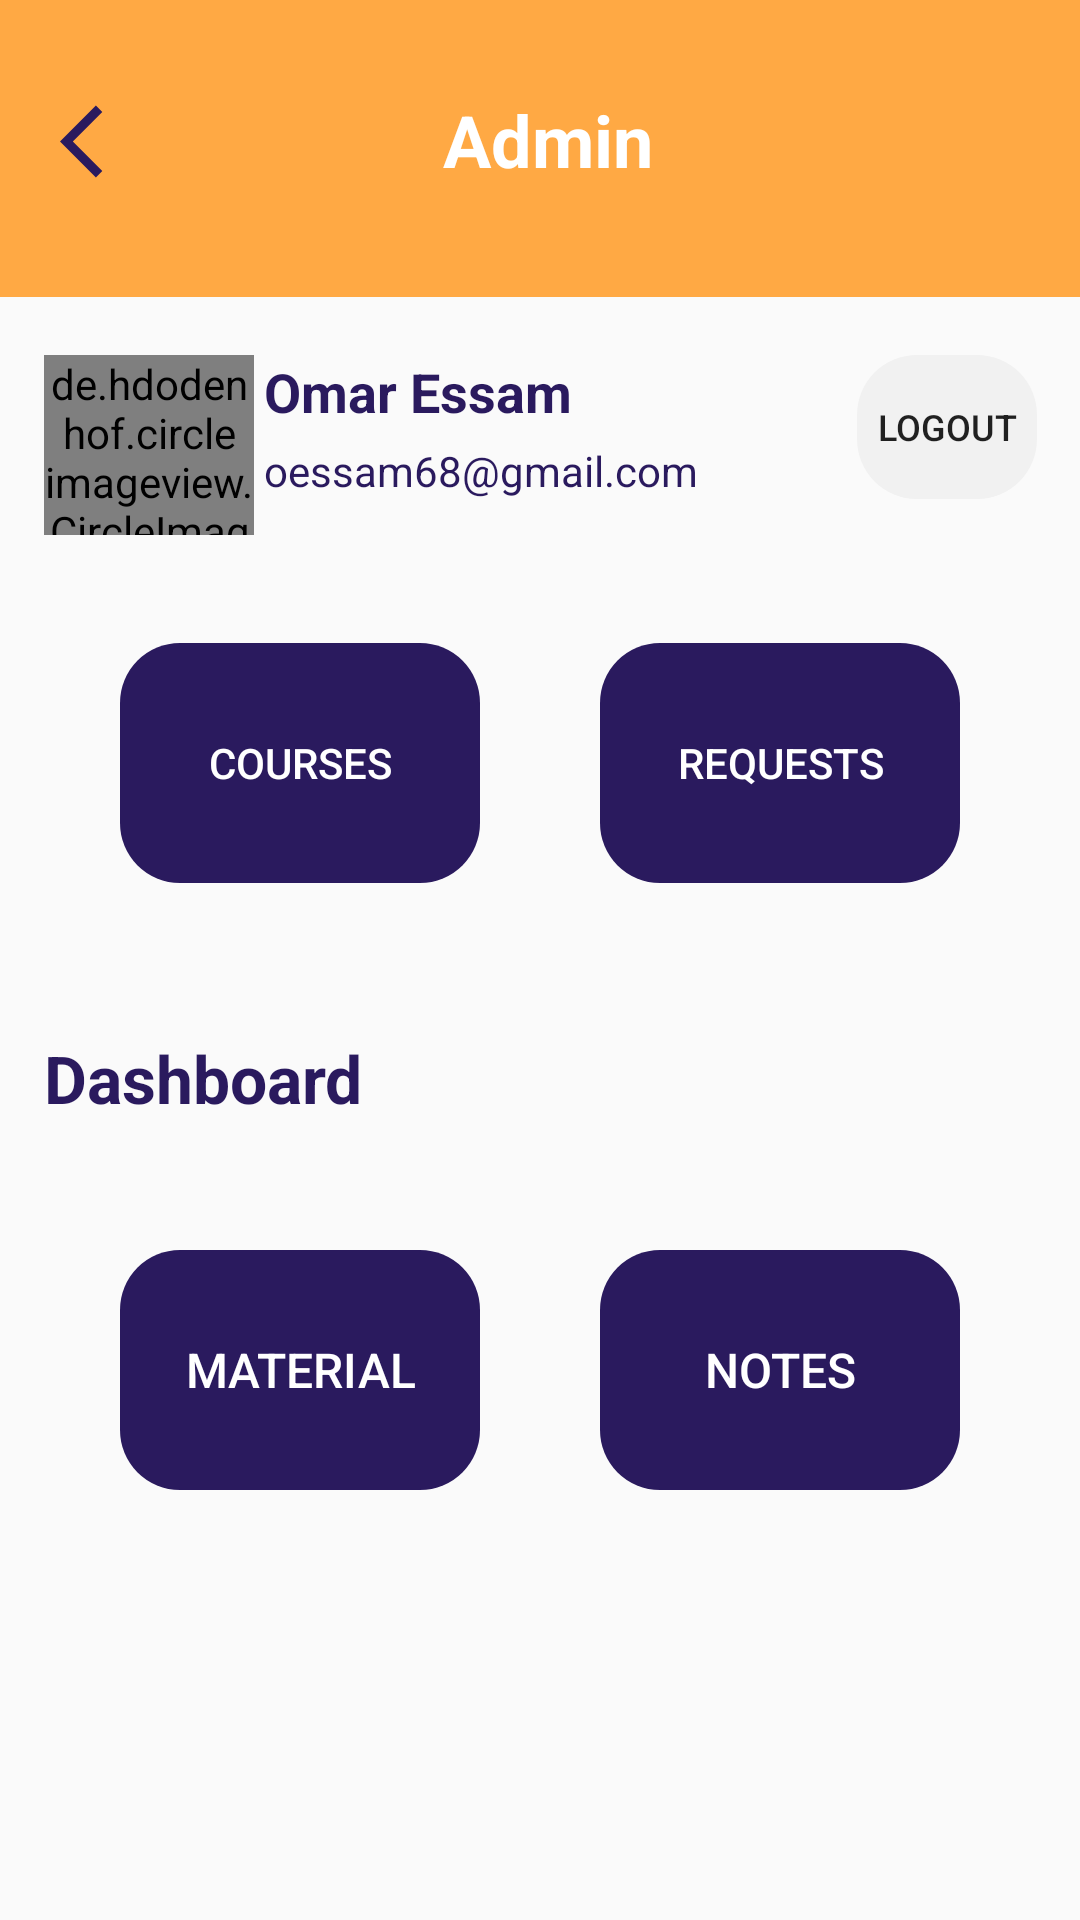

Icons on this 1080×1920 Android screen, each with its box as (x1, y1, x2, y2):
back toolbar: (60, 105, 102, 178)
